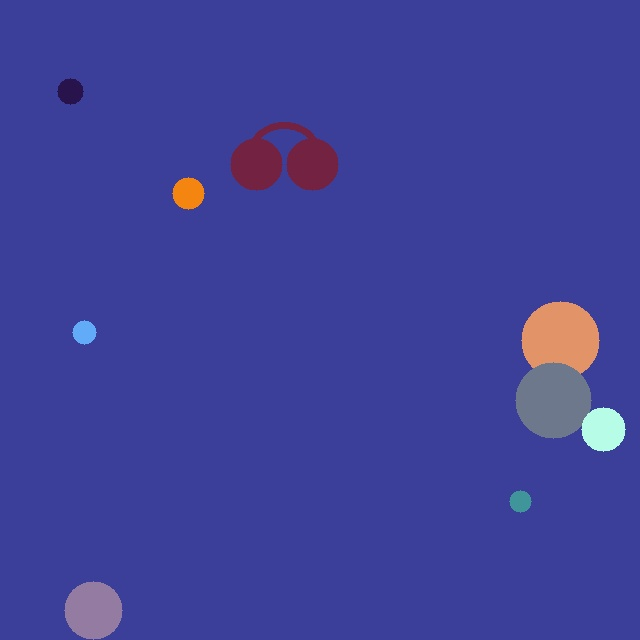over_ear: (226, 116, 342, 194)
